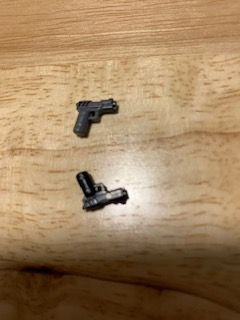pistol: (74, 169, 130, 214), (71, 96, 120, 141)
